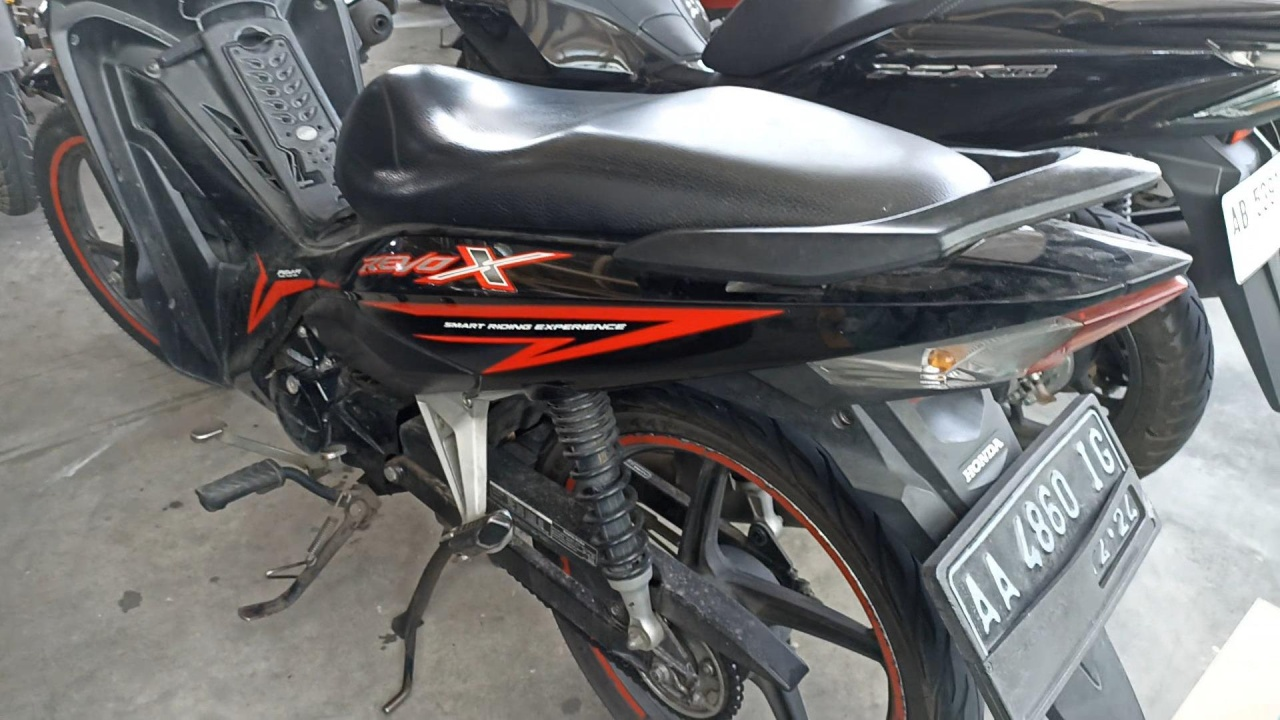plate: (942, 395, 1162, 720)
